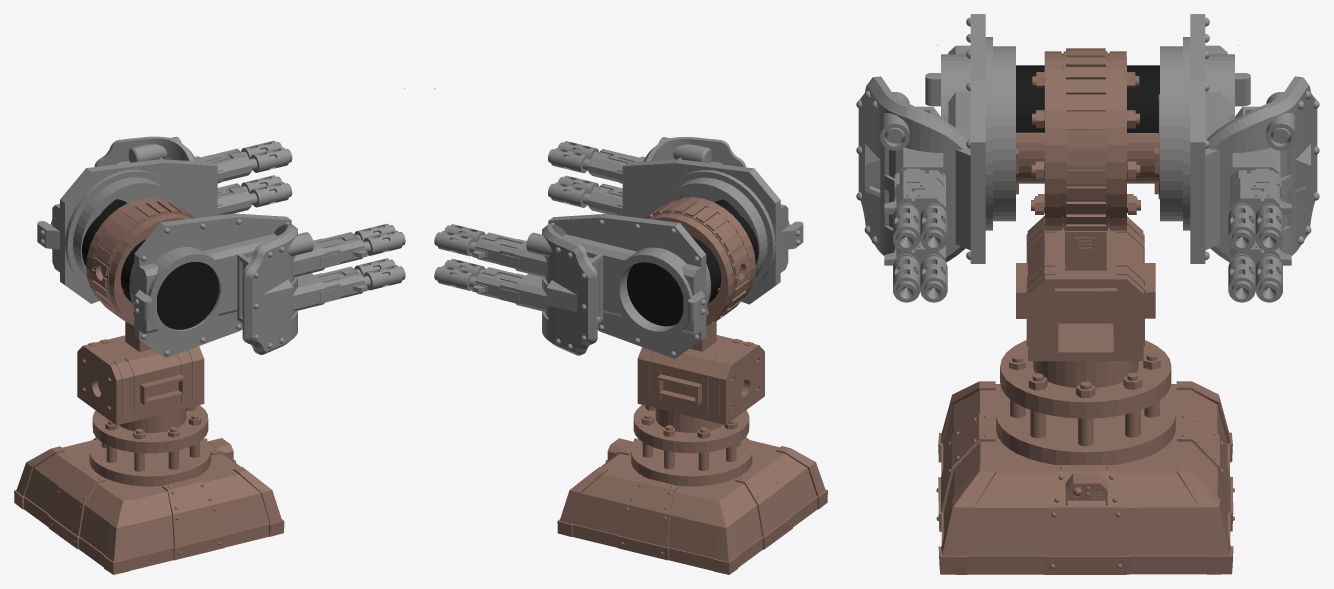
Rendered from LV3Turret.fbx.
3 views of the same model, side by side, from view 1: azimuth 30°, elevation 25°; view 2: azimuth 150°, elevation 25°; view 3: azimuth 270°, elevation 25° (orthographic). The views are drawn at different scales.
Visible parts, largest first — view 1: turret body.001, 03, 03.001, Cylinder.001; view 2: turret body.001, 03.001, 03, Cylinder.001; view 3: turret body.001, 03, 03.001, Cylinder.001.
Boxes of the visible parts, box(x1,y1,x2,y2) form: turret body.001: box(14, 197, 284, 574); 03: box(129, 88, 405, 358); 03.001: box(37, 136, 292, 303); Cylinder.001: box(82, 199, 218, 329); turret body.001: box(557, 197, 827, 574); 03.001: box(434, 88, 710, 358); 03: box(537, 14, 803, 304); Cylinder.001: box(627, 199, 758, 326); turret body.001: box(936, 48, 1234, 574); 03: box(856, 14, 1015, 302); 03.001: box(1160, 14, 1319, 302); Cylinder.001: box(1016, 65, 1159, 132).
Size of the model in its own units: 435 by 591 by 402.
